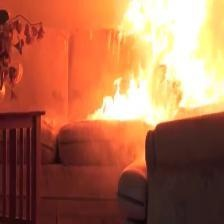fire: (95, 0, 224, 141)
